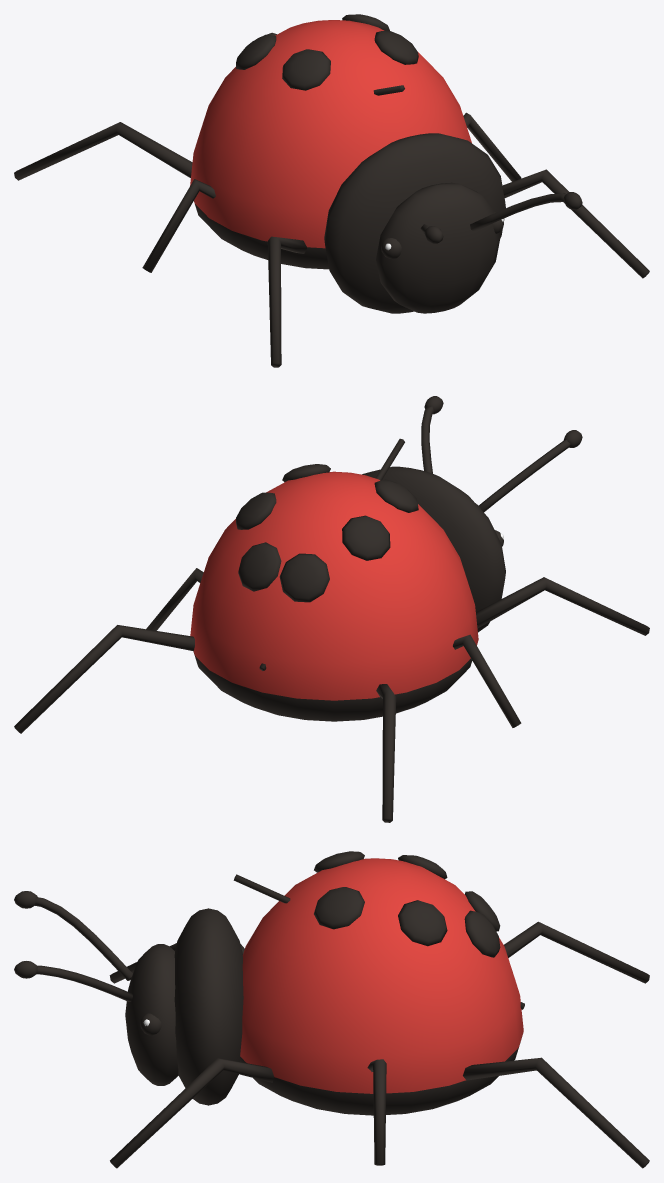
The model's file is bug-ladybug.glb.
The picture shows the model from 3 angles, top to bottom: view 1: azimuth 30°, elevation 25°; view 2: azimuth 150°, elevation 25°; view 3: azimuth 270°, elevation 25°; orthographic projection. The views are drawn at different scales.
Parts seen in each view (by area): view 1: bug; view 2: bug; view 3: bug.
Boxes of the visible parts, <box> form: bug: <box>14,14,649,367</box>; bug: <box>14,396,649,822</box>; bug: <box>14,851,649,1168</box>.
Size of the model in its own units: 0.1285 by 0.0714 by 0.1817.
